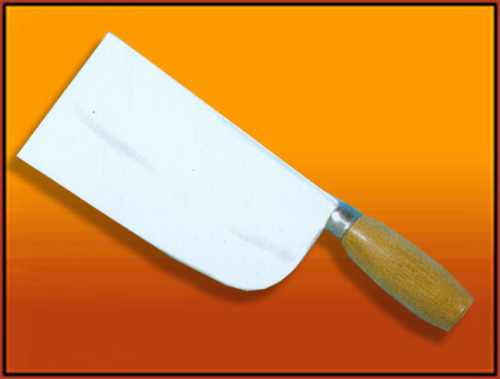knief: (24, 37, 471, 343)
